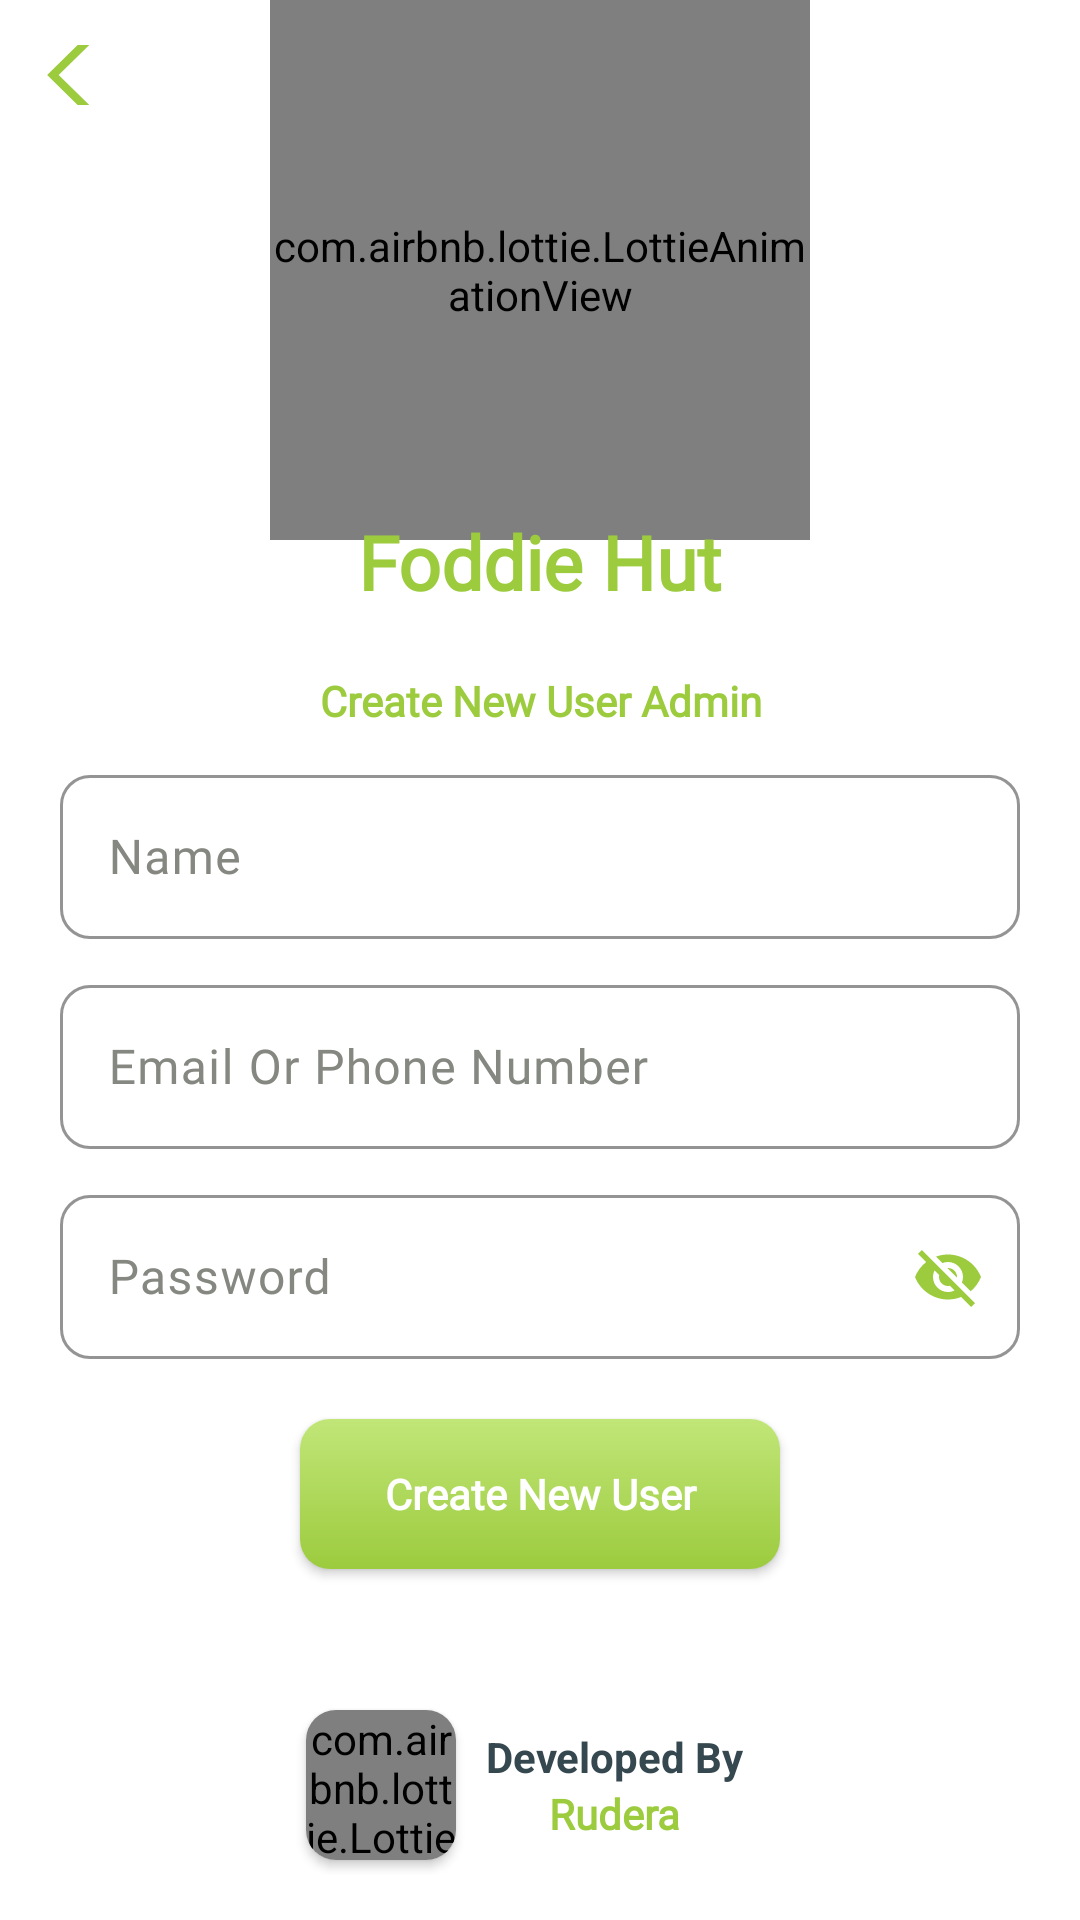

Named icons in this screenshot (1080*1920) and their centers, (x,y):
backarrow: (68,75)
